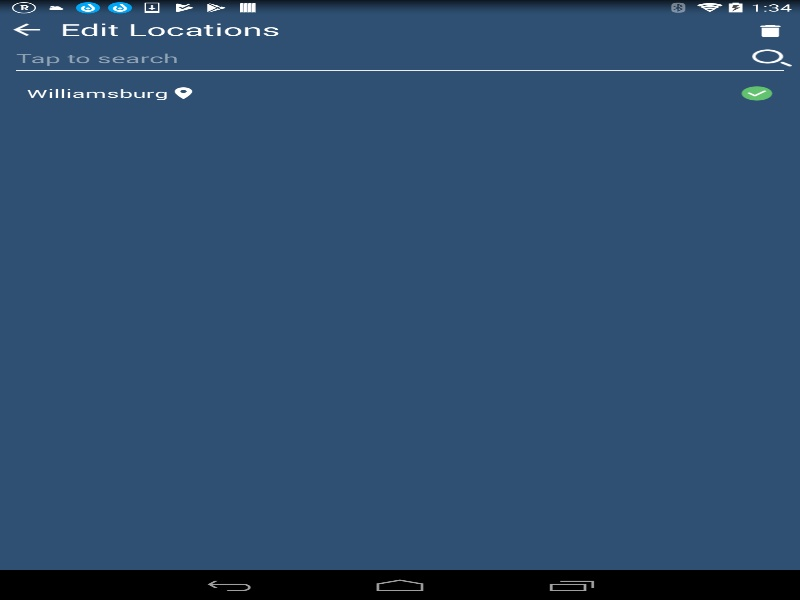Input: (16, 49, 752, 66)
